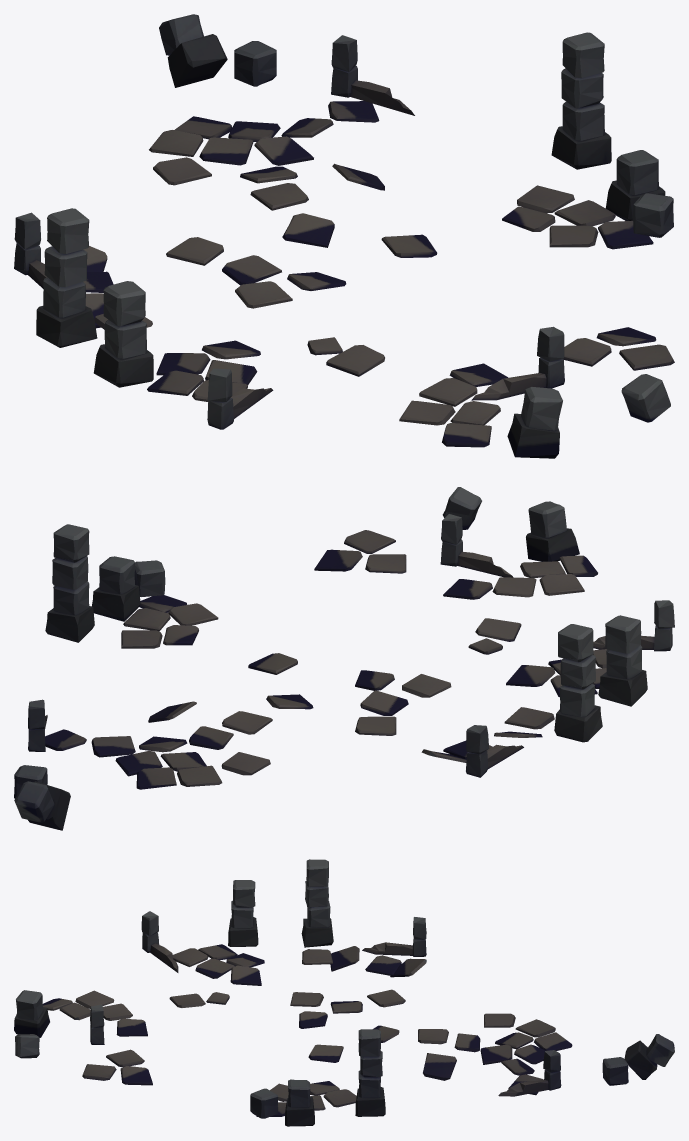
File: Ground_04.FBX
3 views of the same model, one above another, from view 1: azimuth 30°, elevation 25°; view 2: azimuth 150°, elevation 25°; view 3: azimuth 270°, elevation 25° (orthographic). The views are drawn at different scales.
Parts seen in each view (by area): view 1: Ground_04; view 2: Ground_04; view 3: Ground_04.
Boxes of the visible parts, x1,y1,x2,y2 form: Ground_04: (14,14,674,458); Ground_04: (14,487,674,830); Ground_04: (14,859,674,1126).
Size of the model in its own units: 15.96 by 3.9 by 23.34.
